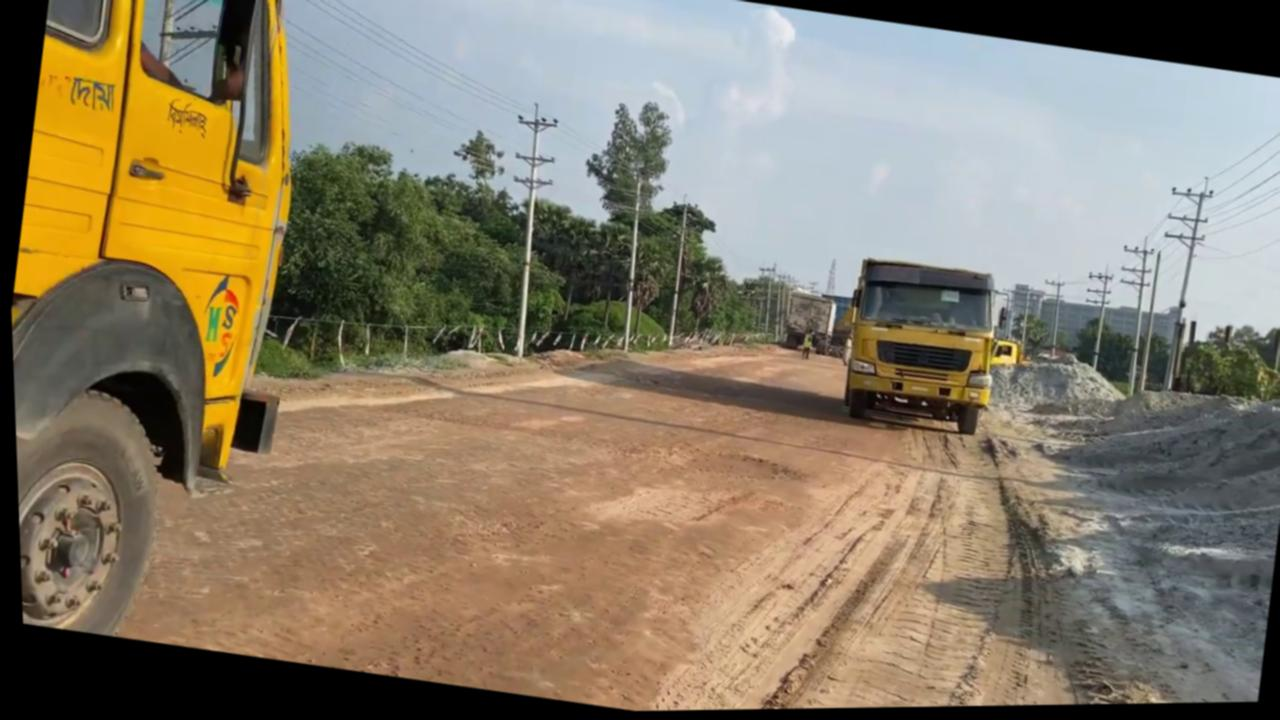Garbage: (934, 357, 1280, 709)
Muddy road: (96, 241, 1148, 719)
Pole: (478, 101, 568, 361), (1137, 176, 1218, 397), (606, 175, 653, 353), (656, 197, 694, 350)
Traffic-sign: (554, 91, 685, 355)
Tree: (0, 0, 356, 656), (825, 252, 1035, 446), (979, 291, 1030, 373), (775, 289, 835, 358), (984, 338, 1022, 375)
